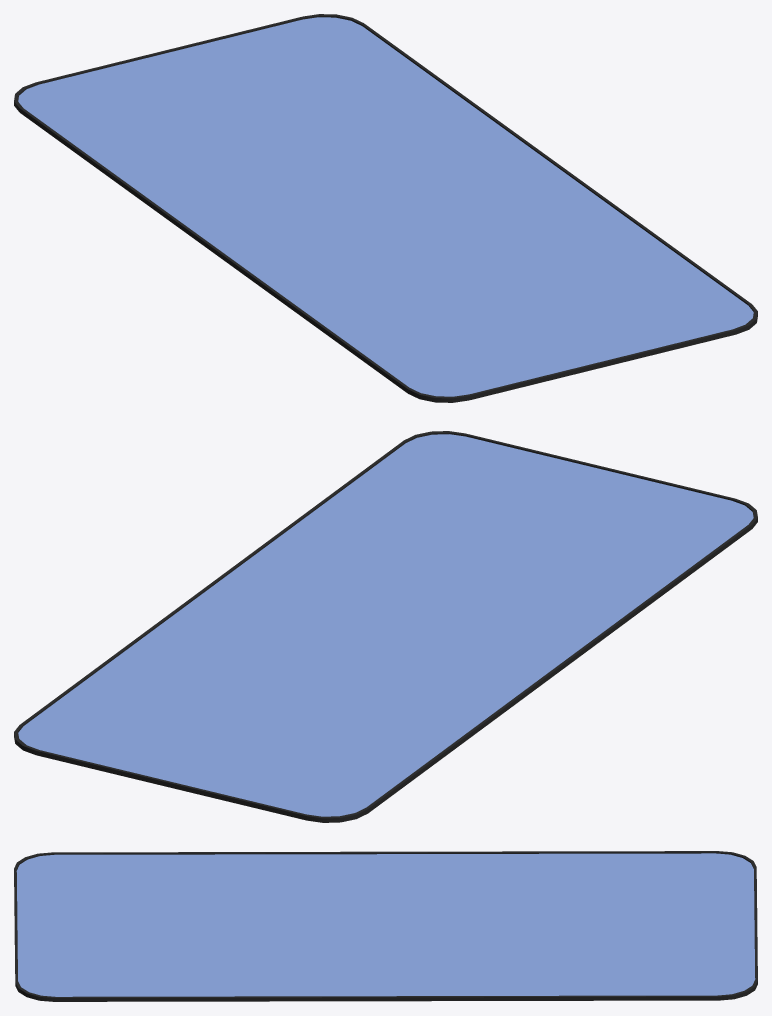
The model's file is MotherMousepad.fbx.
The picture shows the model from 3 angles, top to bottom: view 1: azimuth 30°, elevation 25°; view 2: azimuth 150°, elevation 25°; view 3: azimuth 270°, elevation 25°; orthographic projection. The views are drawn at different scales.
Parts seen in each view (by area): view 1: MousePad1; view 2: MousePad1; view 3: MousePad1.
Part boxes in pixels (left/top/right/bottom): MousePad1: left=14, top=14, right=757, bottom=402; MousePad1: left=14, top=431, right=757, bottom=822; MousePad1: left=14, top=851, right=757, bottom=1001.
Size of the model in its own units: 60.35 by 0.7452 by 129.
